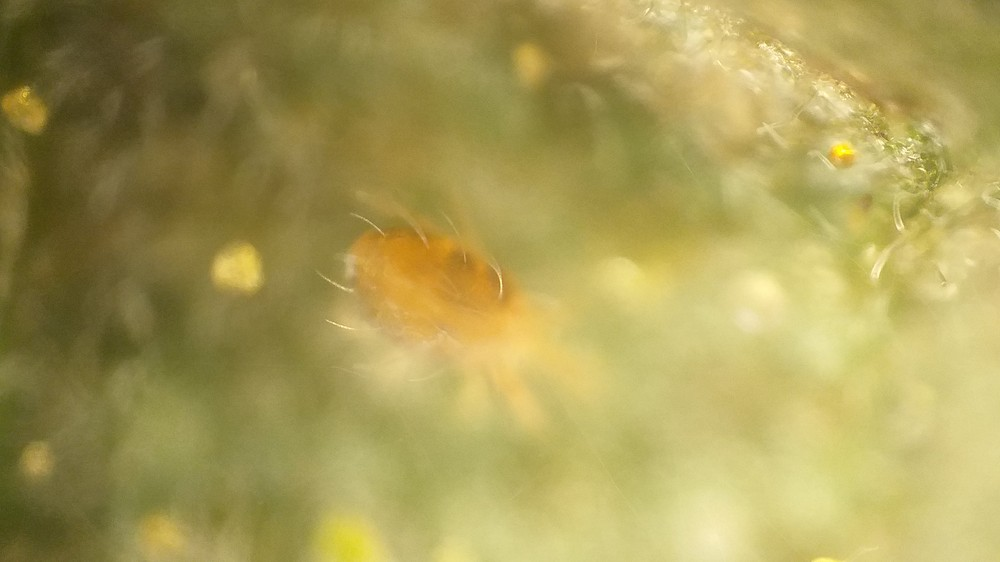Aracnido Rojo: (310, 179, 645, 435)
